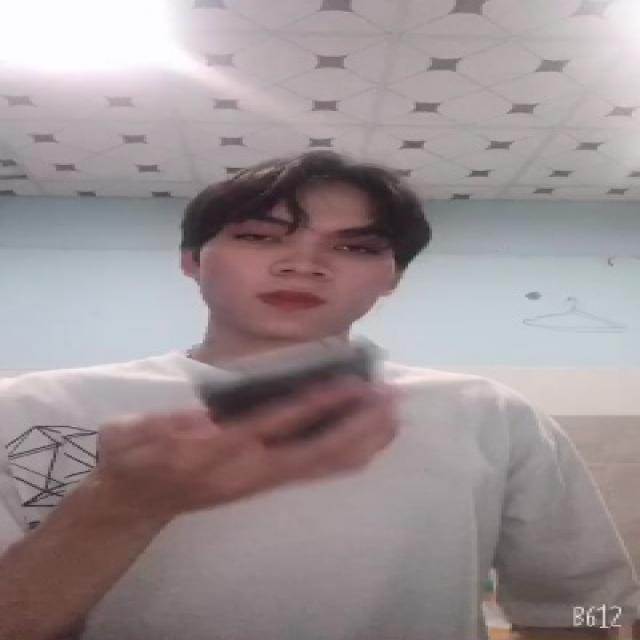Phone: (191, 332, 384, 437)
